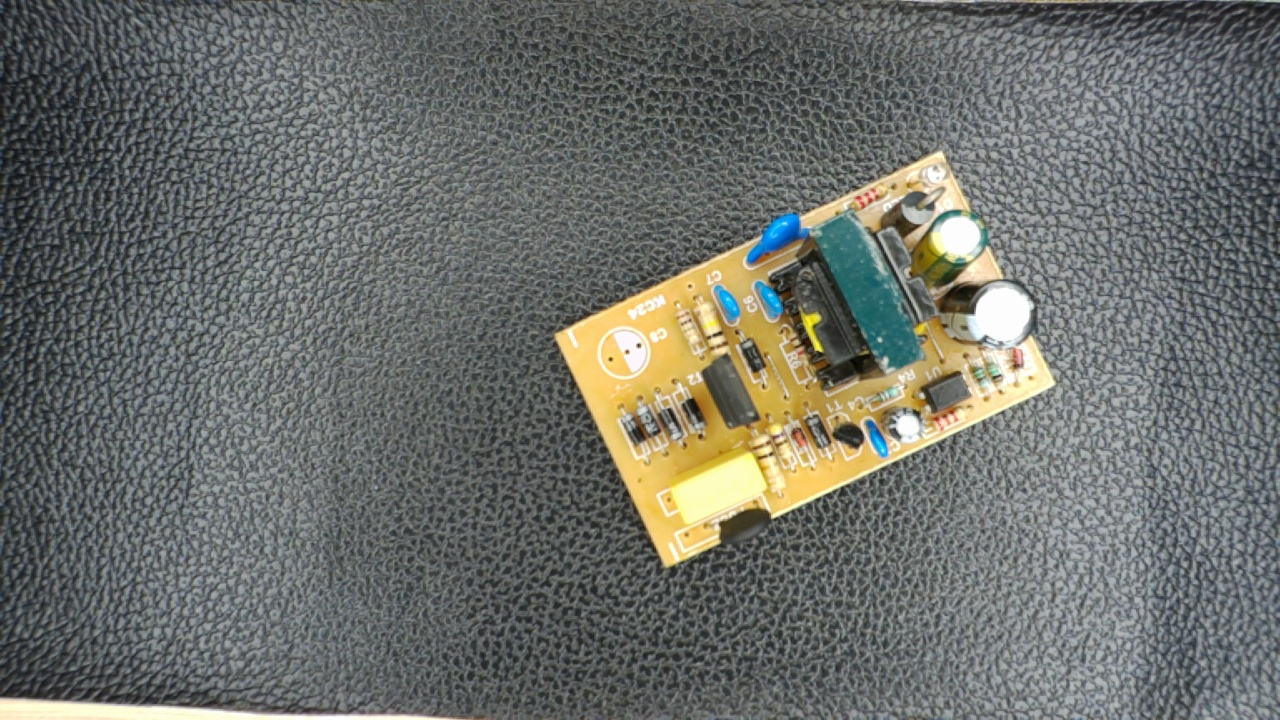fuse: (696, 504, 788, 551)
mov: (738, 209, 819, 272)
optocoupler: (914, 369, 978, 414)
